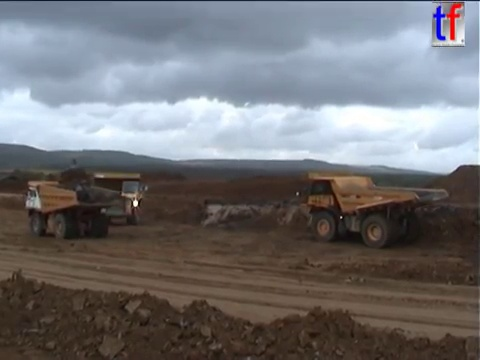truck: (294, 169, 450, 248), (21, 178, 122, 240), (82, 170, 149, 227)
